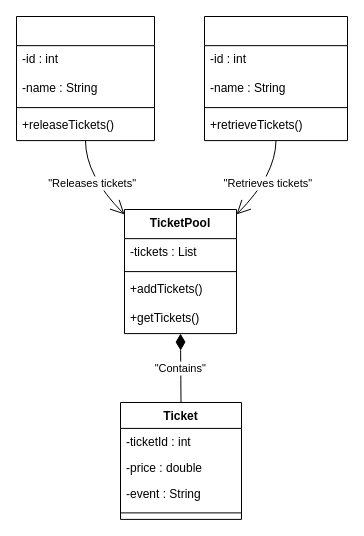
Image size: 364x536. Some labels were removed from this diagram. Each missing label, with the box of its shape:
Customer: (204, 16, 348, 141)
Vendor: (16, 16, 154, 141)
